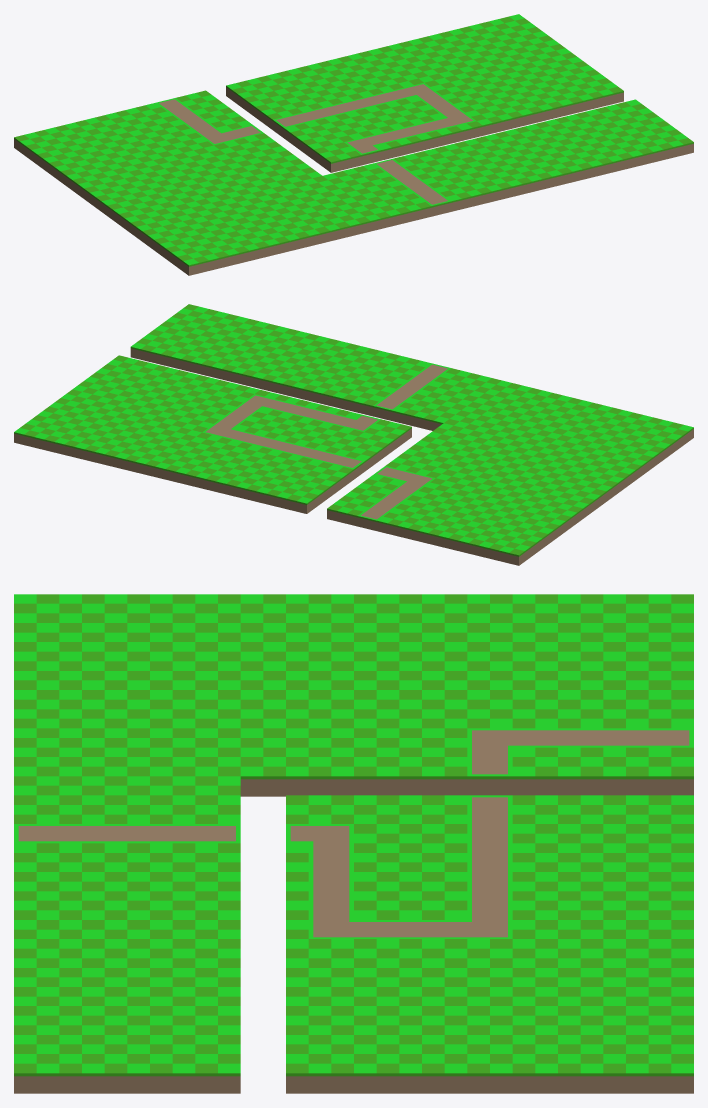
Rendered from Map 01 - 1.fbx.
3 views of the same model, one above another, from view 1: azimuth 30°, elevation 25°; view 2: azimuth 150°, elevation 25°; view 3: azimuth 270°, elevation 25° (orthographic). The views are drawn at different scales.
Visible parts, largest first — view 1: Plane.010, Plane.012; view 2: Plane.010, Plane.012; view 3: Plane.010, Plane.012.
Boxes of the visible parts, left/top/right/bottom form: Plane.010: left=14, top=14, right=693, bottom=275; Plane.012: left=155, top=83, right=476, bottom=205; Plane.010: left=14, top=304, right=693, bottom=565; Plane.012: left=202, top=363, right=451, bottom=520; Plane.010: left=14, top=594, right=693, bottom=1093; Plane.012: left=14, top=728, right=693, bottom=938.
Size of the model in its own units: 500 by 10 by 300.
